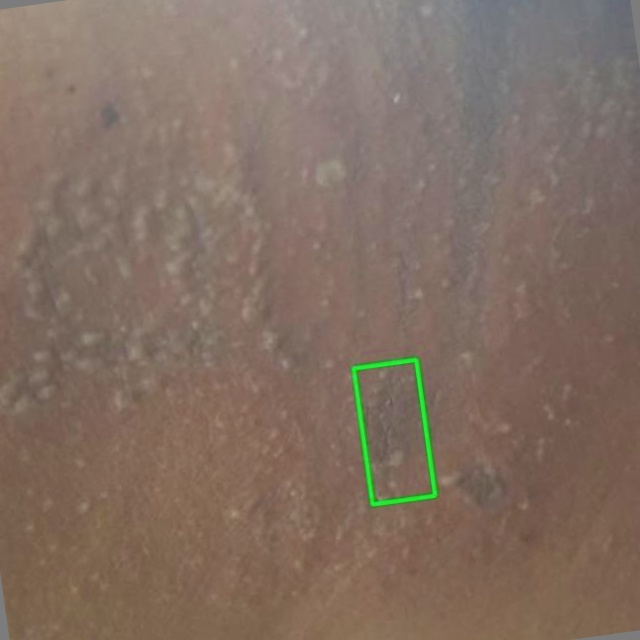Contact Dermatitis: (353, 359, 435, 504)
